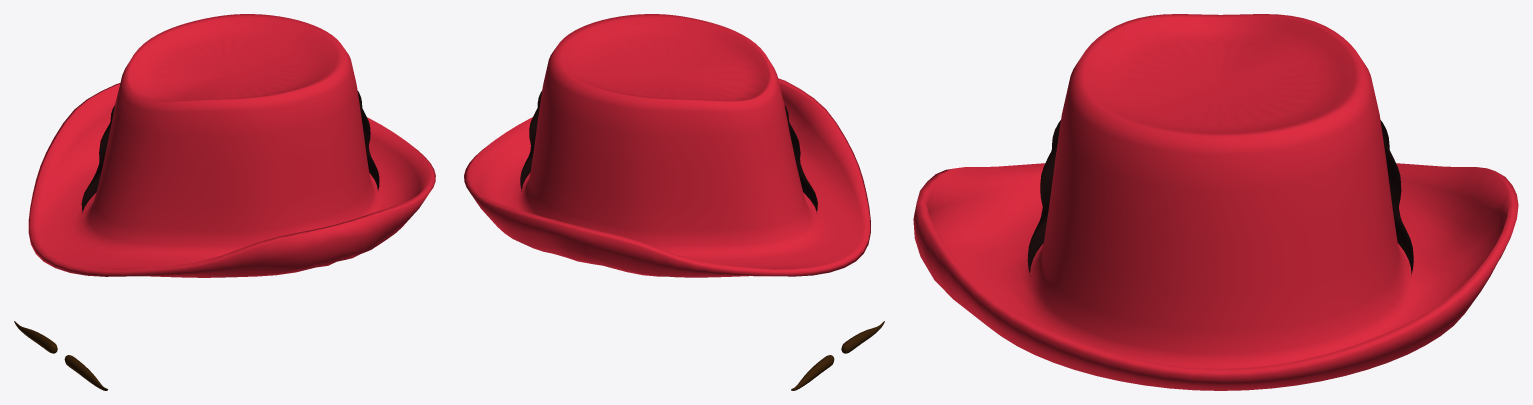
The picture shows the model from 3 angles, left to right: view 1: azimuth 30°, elevation 25°; view 2: azimuth 150°, elevation 25°; view 3: azimuth 270°, elevation 25°; orthographic projection. The views are drawn at different scales.
Visible parts, largest first — view 1: Circle.010_9, Circle.011_10, Cube.002_1, Cube_0; view 2: Circle.010_9, Circle.011_10, Cube_0, Cube.002_1; view 3: Circle.010_9, Circle.011_10.
Boxes of the visible parts, box(x1,y1,x2,y2) form: Circle.010_9: box(28, 14, 435, 277); Circle.011_10: box(81, 91, 379, 212); Cube.002_1: box(64, 355, 107, 390); Cube_0: box(14, 321, 57, 353); Circle.010_9: box(464, 14, 870, 277); Circle.011_10: box(520, 90, 817, 211); Cube_0: box(791, 355, 834, 390); Cube.002_1: box(841, 321, 884, 353); Circle.010_9: box(913, 14, 1518, 390); Circle.011_10: box(1027, 120, 1413, 277).
Size of the model in its own units: 4.93 by 3.35 by 4.82.
